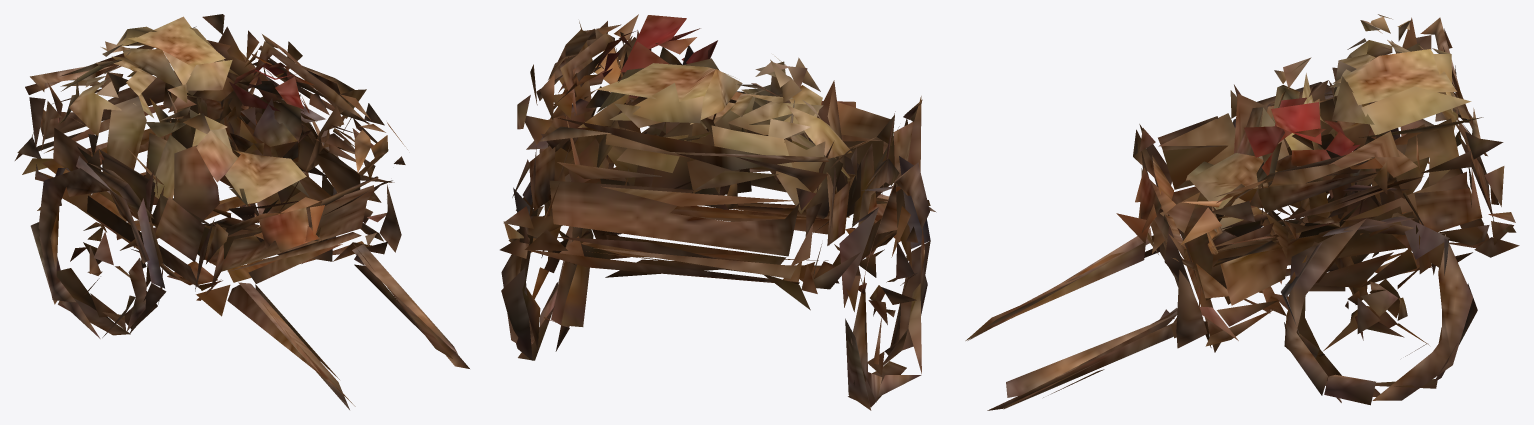
The model's file is carroca_lod2.glb.
The picture shows the model from 3 angles, left to right: view 1: azimuth 30°, elevation 25°; view 2: azimuth 150°, elevation 25°; view 3: azimuth 270°, elevation 25°; orthographic projection. The views are drawn at different scales.
Visible parts, largest first — view 1: carroca; view 2: carroca; view 3: carroca.
Boxes of the visible parts, x1,y1,x2,y2 form: carroca: (15,14,469,409); carroca: (500,14,936,410); carroca: (965,14,1519,410).
Bounding box in the file's own units: 1.9 × 1.6 × 2.7.
1 material, 1 textured.
